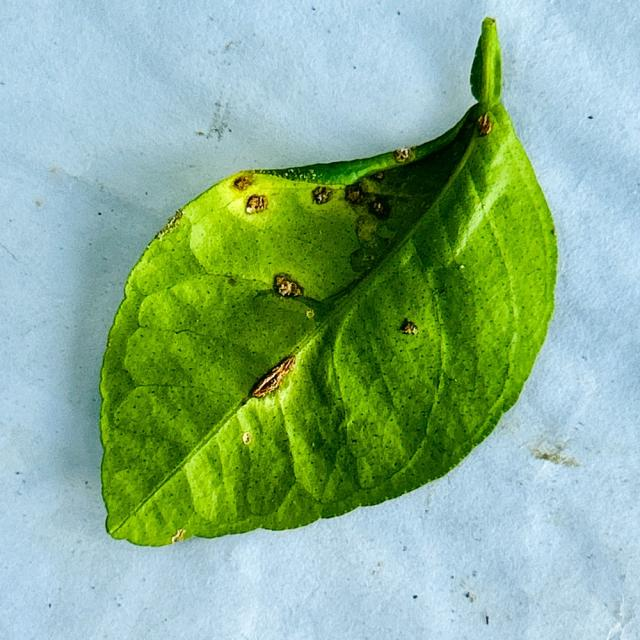Anthracnose: (248, 355, 296, 399), (153, 210, 183, 242), (273, 275, 302, 298), (367, 195, 391, 220), (244, 194, 268, 214), (311, 186, 332, 205), (344, 183, 363, 204), (476, 113, 493, 136), (399, 319, 419, 337), (232, 175, 254, 191), (394, 147, 413, 163), (171, 528, 186, 544), (371, 171, 386, 182), (226, 275, 238, 286), (242, 431, 252, 444), (306, 309, 315, 319)
Lemon: (97, 19, 558, 550)
